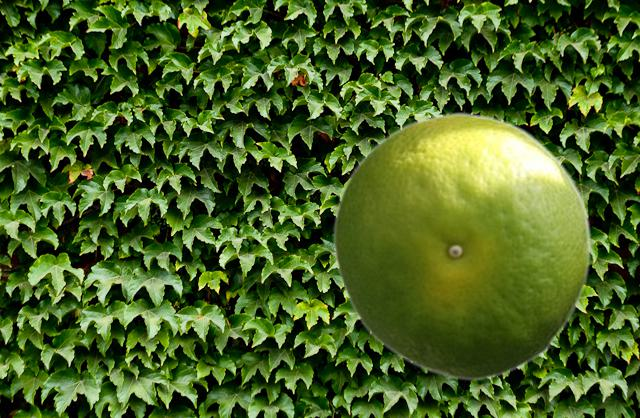dalandan: (332, 111, 590, 380)
